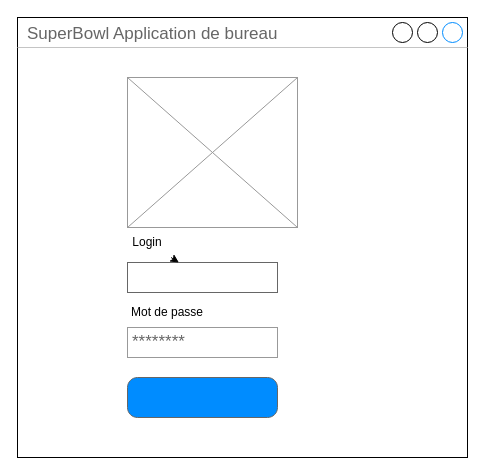
Some shapes in this 485 by 475 pixel diagram are drawn without their labels. Each missing label, with the centre of its shape:
Connexion: pixel 202 397
Line 1: pixel 202 277
